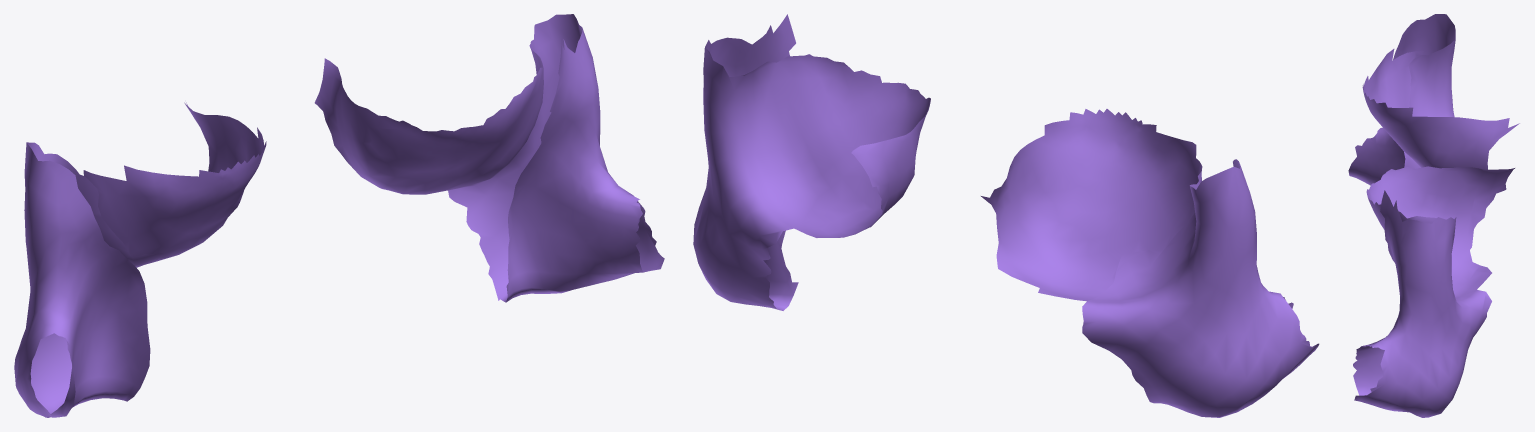
Rendered from Zygomatic.fbx.
The picture shows the model from 3 angles, left to right: view 1: azimuth 30°, elevation 25°; view 2: azimuth 150°, elevation 25°; view 3: azimuth 270°, elevation 25°; orthographic projection. The views are drawn at different scales.
Parts seen in each view (by area): view 1: ZYGOMATIC; view 2: ZYGOMATIC; view 3: ZYGOMATIC.
Boxes of the visible parts, x1,y1,x2,y2 form: ZYGOMATIC: [14, 14, 664, 417]; ZYGOMATIC: [693, 14, 1319, 417]; ZYGOMATIC: [1348, 14, 1519, 417].
Size of the model in its own units: 609 by 264 by 190.
